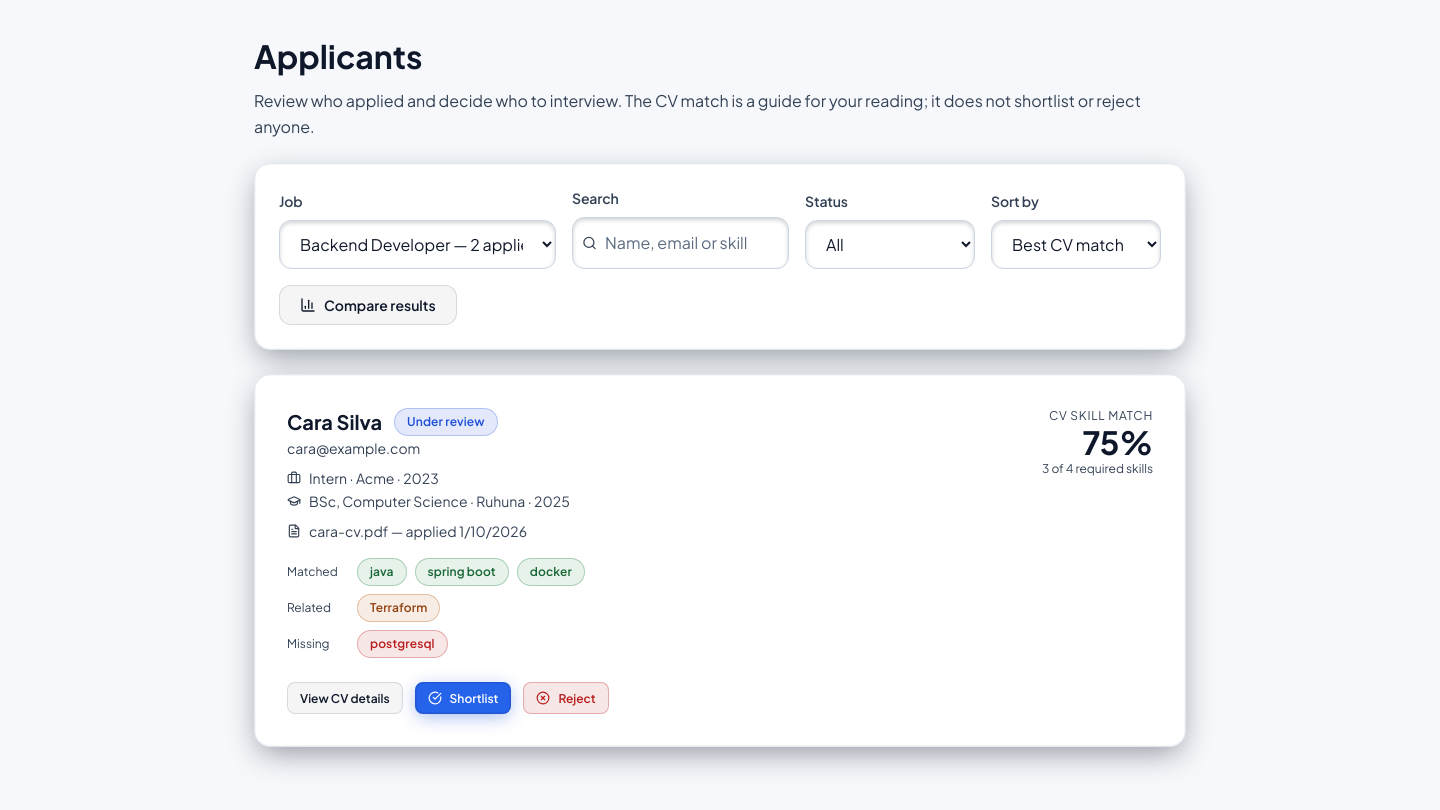
Scenario: cancelling a rejection sends nothing
Click the button "Reject": coordinates (566, 698) [524,682,609,714]
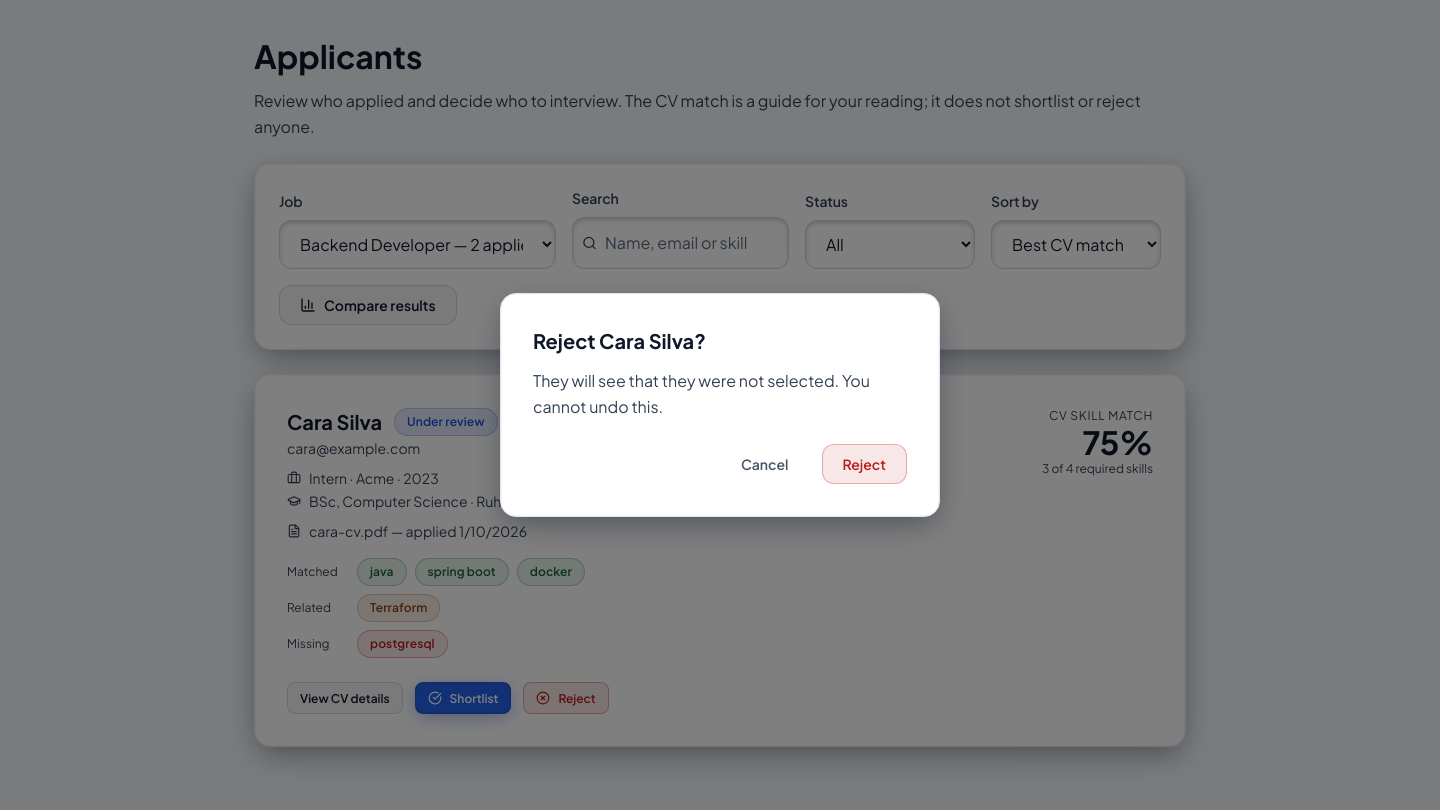
expect the text "Reject Cara Silva?" is shown: met, box [533,328,706,353]
Click the button "Cancel": coordinates (765, 464) [720,444,810,484]
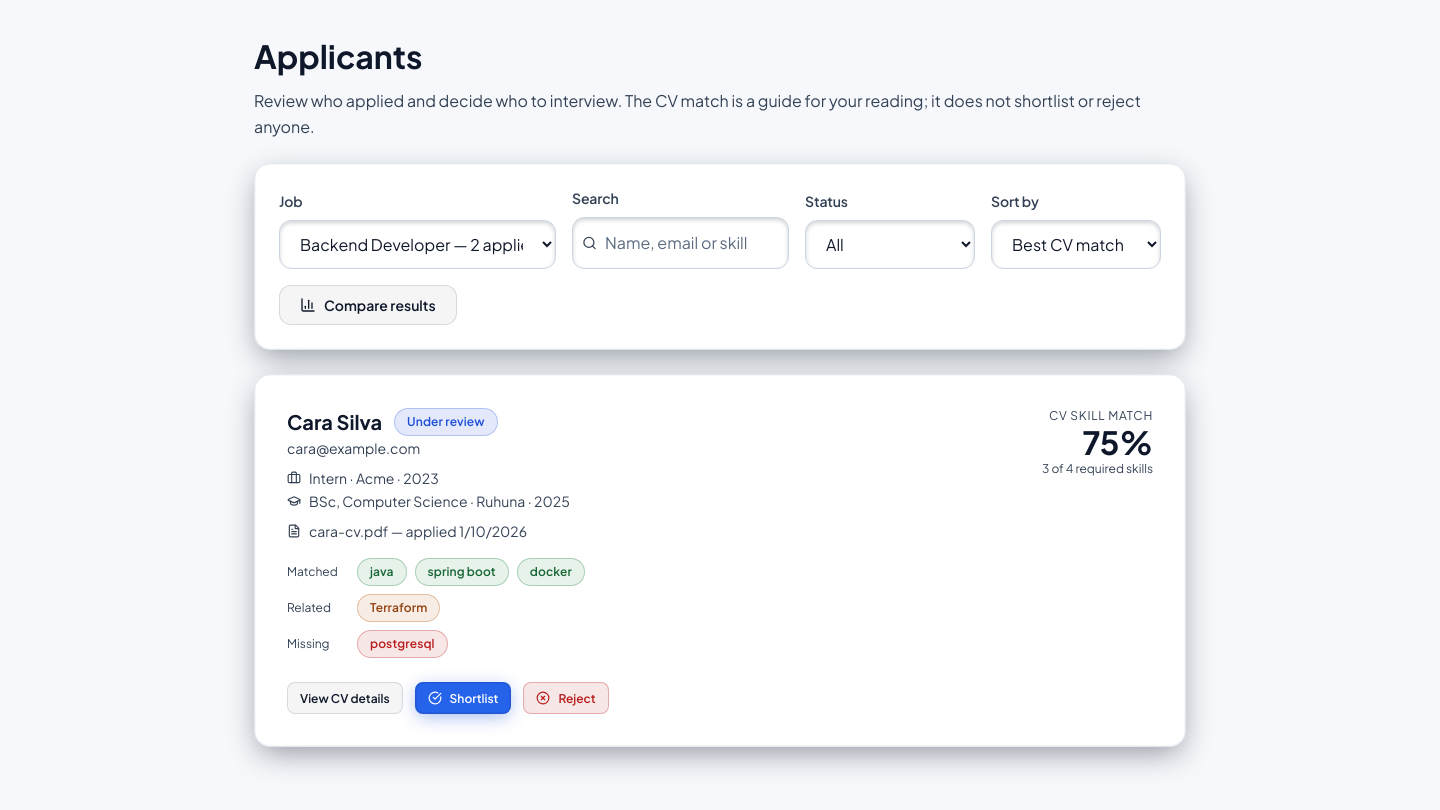
expect the dialog is gone: met
